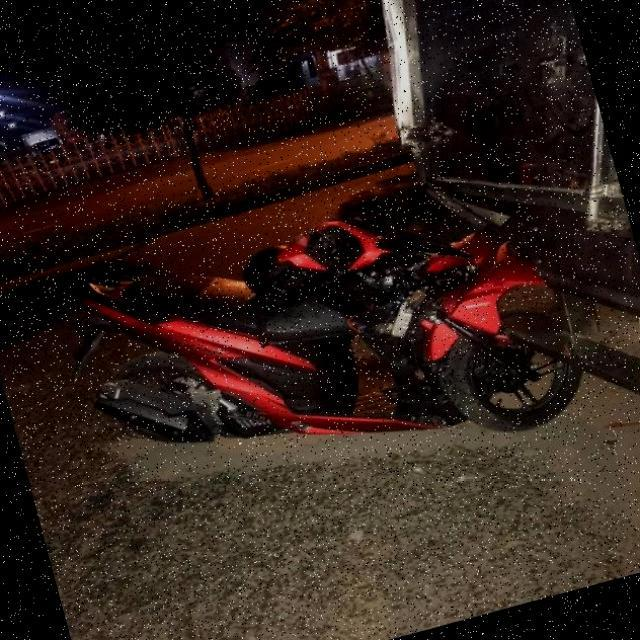accident: (16, 99, 640, 552)
